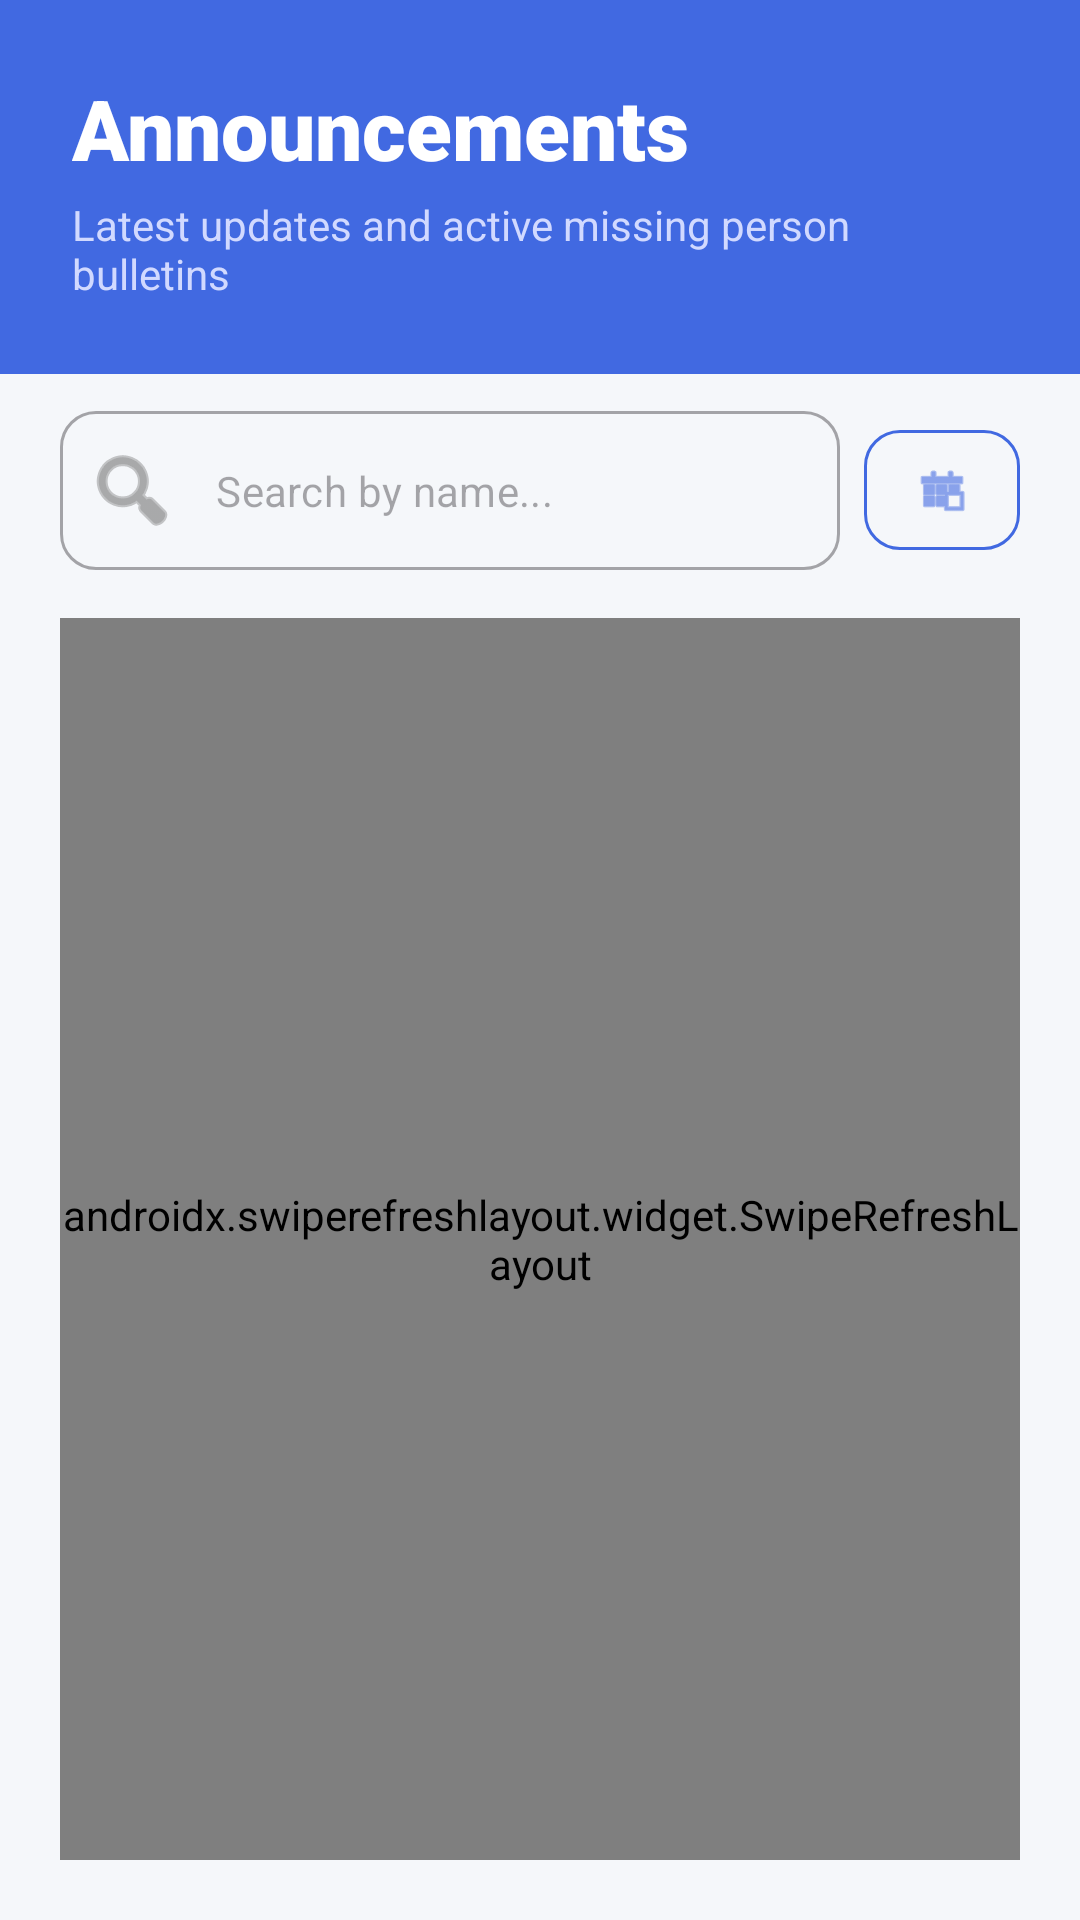

Named icons in this screenshot (1080 × 1920) and their centers, [x,y]:
today: [942,490]
